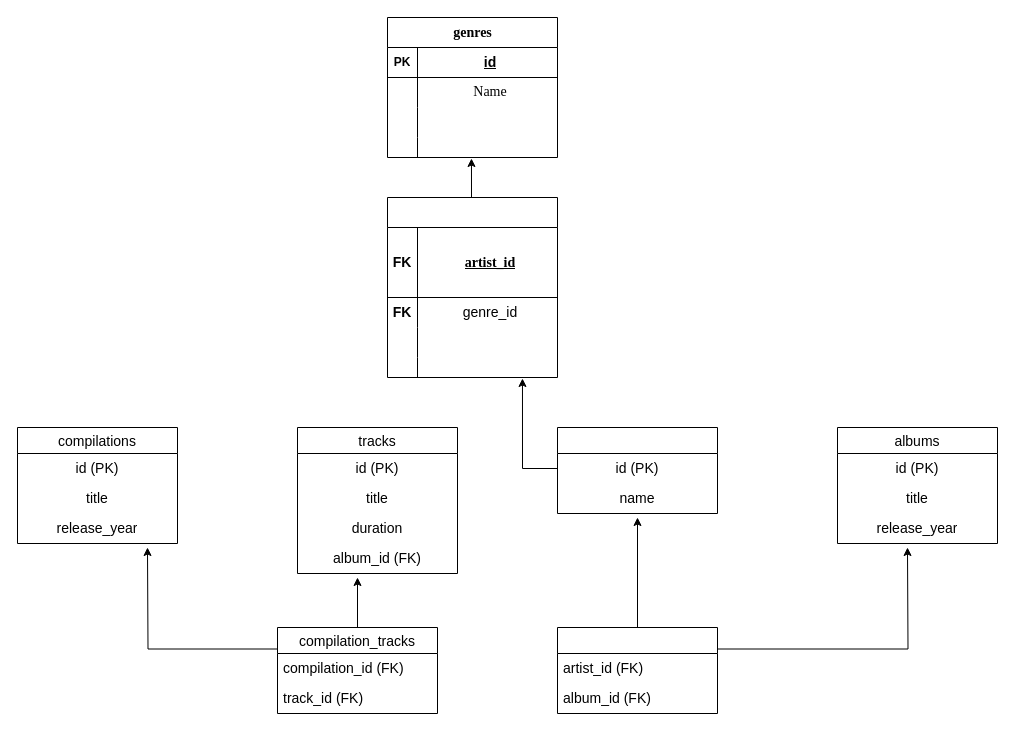
Image size: 1015x734. Some labels were removed from this diagram. The box of each missing label's shape, as (x1, y1, x2, y2) in pixels:
artist_albums: (556, 626, 718, 714)
artist_genres: (386, 196, 558, 378)
artists: (556, 426, 718, 514)
